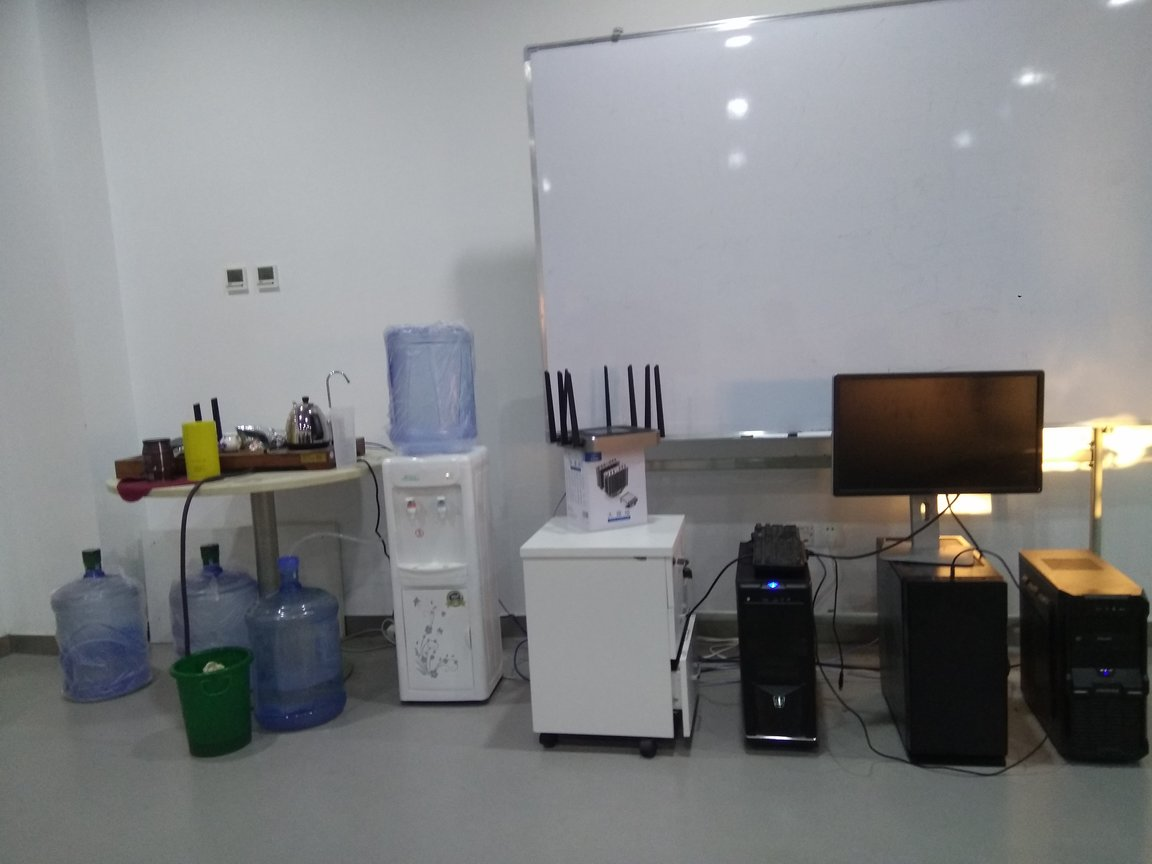computer: (878, 530, 1022, 774), (1015, 546, 1151, 771), (734, 538, 835, 761)
drawer chest: (521, 505, 704, 766)
monitor: (824, 367, 1055, 566)
scuttlebutt: (169, 543, 266, 723), (251, 557, 342, 741), (50, 547, 151, 705), (381, 310, 481, 464)
water dispenser: (375, 442, 510, 708)
